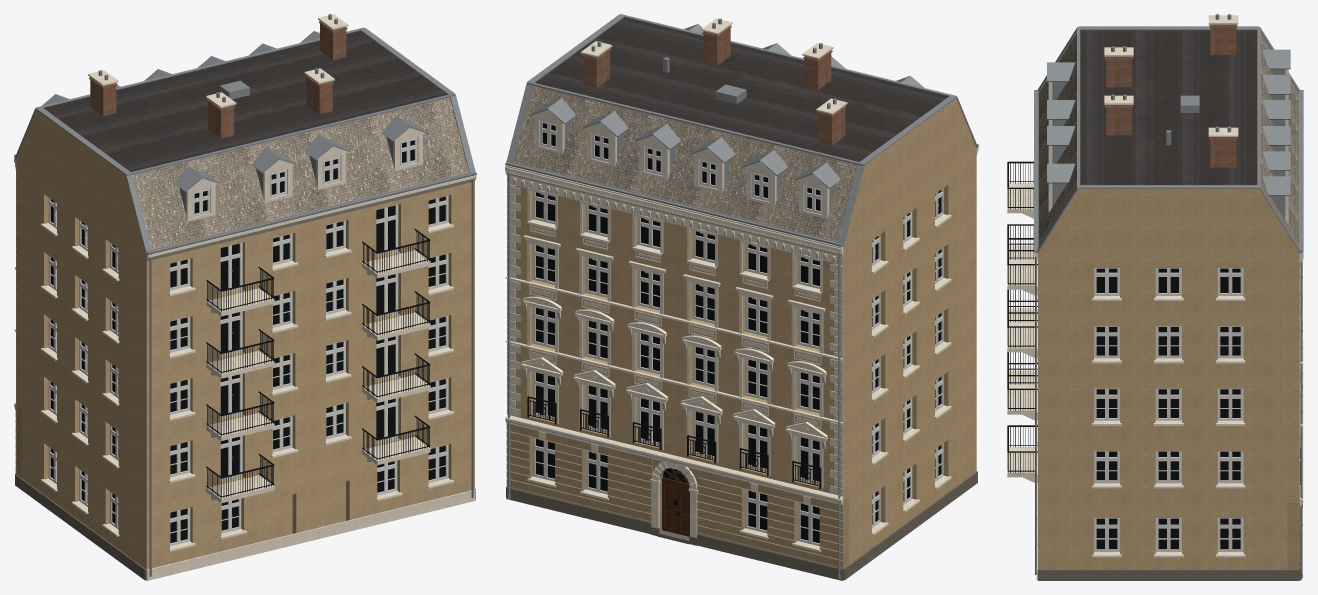
File: haus.glb
The picture shows the model from 3 angles, left to right: view 1: azimuth 30°, elevation 25°; view 2: azimuth 150°, elevation 25°; view 3: azimuth 270°, elevation 25°; orthographic projection. The views are drawn at different scales.
Parts seen in each view (by area): view 1: Fassade_Hof, Dach, Fassade_Seite_Links, Hof_Balkone, Fassade_Vorne_OG, Sockel_Seiten, Gaube_Hof.001, Gaube_Hof, Gaube_Hof.003, Gaube_Hof.002, Fenster_Hof.023, Fenster_Hof.026 (+26 smaller); view 2: Dach, Fassade_Vorne_OG, Fassade_Seite_Links, Stuck_Vorne, Rustika, Fassade_Vorne_EG, Fassade_Hof, Haustuer, Sockel_Seiten, Gaube_Vorne, Gaube_Vorne.002, Gaube_Vorne.004 (+45 smaller); view 3: Fassade_Seite_Rechts, Dach, Hof_Balkone, Fassade_Hof, Fassade_Vorne_OG, Sockel_Seiten, Stuck_Vorne, Fenster_Seite.011, Fenster_Seite.001, Fenster_Seite.021, Fenster_Seite.007, Fenster_Seite.013 (+21 smaller).
Boxes of the visible parts, left/top/right/bottom form: Fassade_Hof: left=140, top=181, right=474, bottom=569; Dach: left=14, top=14, right=476, bottom=254; Fassade_Seite_Links: left=22, top=163, right=140, bottom=564; Hof_Balkone: left=146, top=175, right=476, bottom=580; Fassade_Vorne_OG: left=16, top=159, right=22, bottom=411; Sockel_Seiten: left=15, top=474, right=475, bottom=580; Gaube_Hof.001: left=251, top=147, right=296, bottom=202; Gaube_Hof: left=174, top=166, right=219, bottom=221; Gaube_Hof.003: left=382, top=116, right=426, bottom=170; Gaube_Hof.002: left=305, top=134, right=349, bottom=189; Fenster_Hof.023: left=220, top=242, right=242, bottom=294; Fenster_Hof.026: left=376, top=204, right=398, bottom=256; Dach: left=505, top=14, right=978, bottom=246; Fassade_Vorne_OG: left=507, top=184, right=849, bottom=500; Fassade_Seite_Links: left=849, top=153, right=970, bottom=564; Stuck_Vorne: left=505, top=165, right=843, bottom=580; Rustika: left=506, top=423, right=843, bottom=567; Fassade_Vorne_EG: left=507, top=431, right=849, bottom=568; Fassade_Hof: left=970, top=149, right=976, bottom=475; Haustuer: left=657, top=468, right=689, bottom=544; Sockel_Seiten: left=506, top=471, right=977, bottom=580; Gaube_Vorne: left=794, top=162, right=840, bottom=218; Gaube_Vorne.002: left=689, top=137, right=735, bottom=193; Gaube_Vorne.004: left=582, top=111, right=628, bottom=167; Fassade_Seite_Rechts: left=1050, top=253, right=1287, bottom=569; Dach: left=1034, top=14, right=1303, bottom=252; Hof_Balkone: left=1007, top=161, right=1037, bottom=580; Fassade_Hof: left=1038, top=253, right=1049, bottom=569; Fassade_Vorne_OG: left=1287, top=253, right=1299, bottom=502; Sockel_Seiten: left=1038, top=569, right=1299, bottom=580; Stuck_Vorne: left=1299, top=251, right=1303, bottom=580; Fenster_Seite.011: left=1154, top=518, right=1183, bottom=557; Fenster_Seite.001: left=1216, top=518, right=1245, bottom=557; Fenster_Seite.021: left=1092, top=518, right=1121, bottom=557; Fenster_Seite.007: left=1216, top=326, right=1245, bottom=363; Fenster_Seite.013: left=1154, top=451, right=1183, bottom=488.
Bounding box in the file's own units: 16.24 × 19.92 × 12.48.
12 materials, 7 textured.
